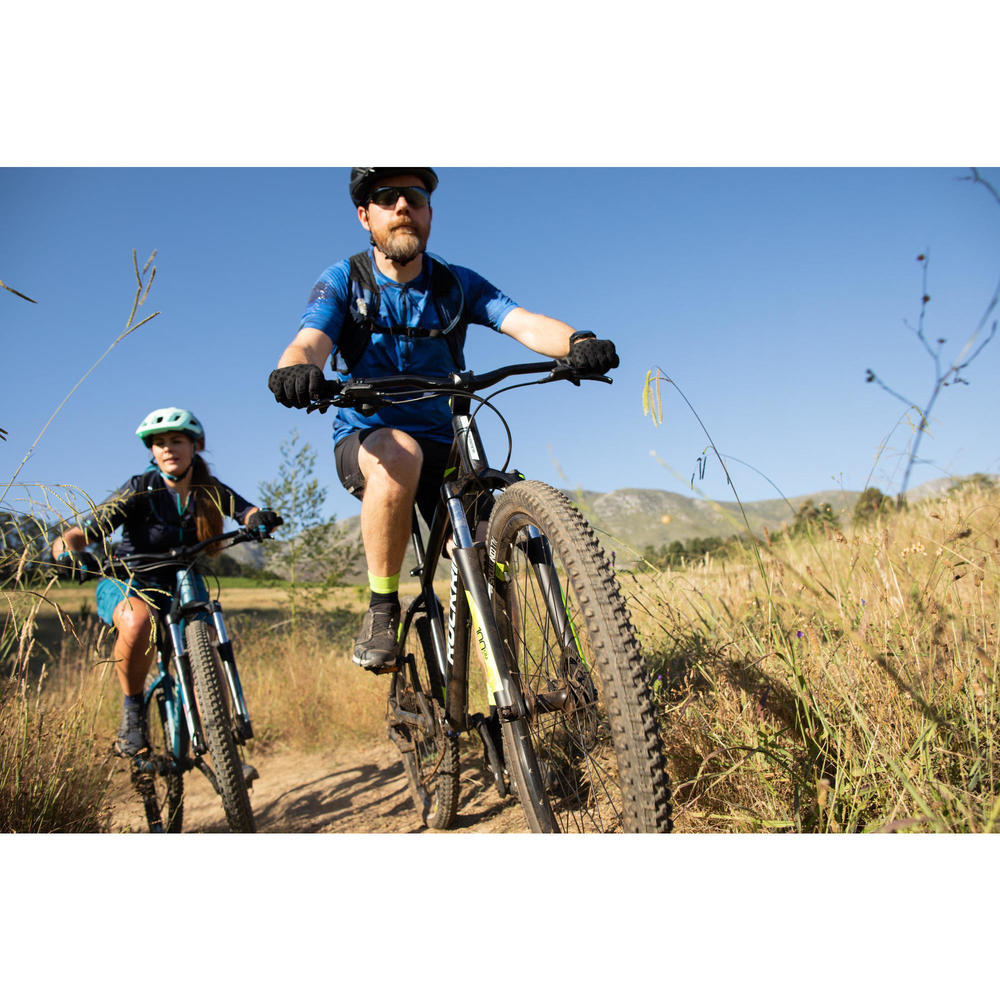MountainBike: (281, 345, 679, 836), (44, 520, 277, 836)
